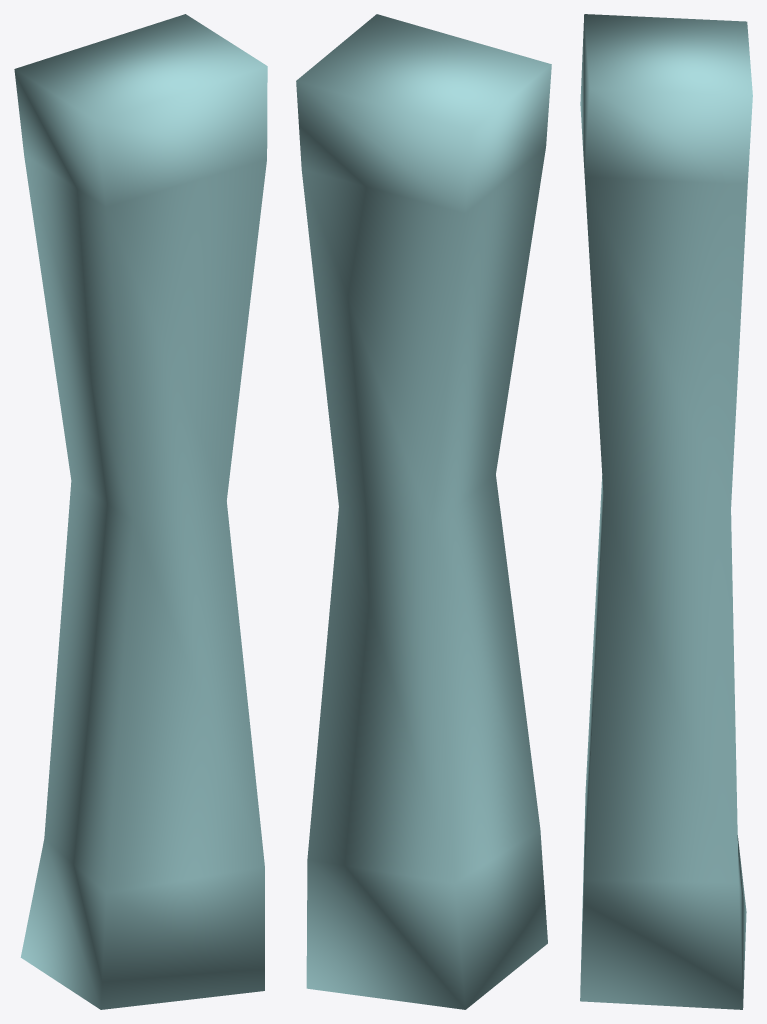
Rendered from Skelly_palm.03.R.fbx.
The picture shows the model from 3 angles, left to right: view 1: azimuth 30°, elevation 25°; view 2: azimuth 150°, elevation 25°; view 3: azimuth 270°, elevation 25°; orthographic projection.
Parts seen in each view (by area): view 1: Skelly_palm.03.R; view 2: Skelly_palm.03.R; view 3: Skelly_palm.03.R.
Boxes of the visible parts, left/top/right/bottom form: Skelly_palm.03.R: left=14, top=14, right=267, bottom=1009; Skelly_palm.03.R: left=296, top=14, right=551, bottom=1009; Skelly_palm.03.R: left=580, top=14, right=752, bottom=1009.
Size of the model in its own units: 1.67 by 8.49 by 1.44.
